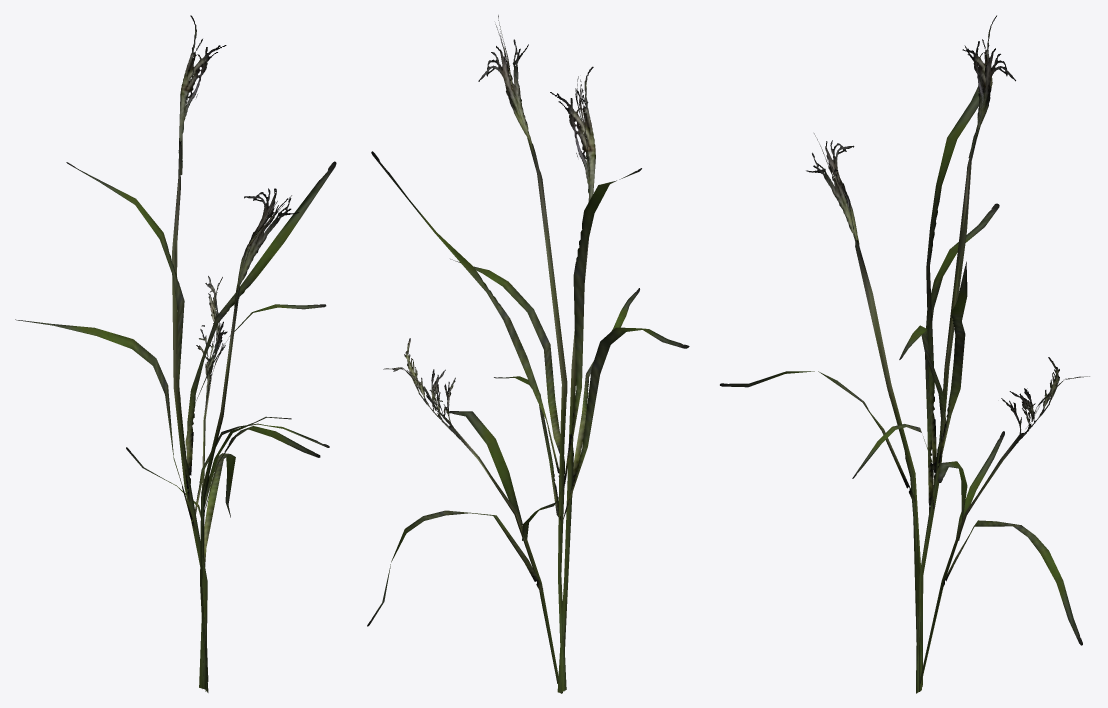
3 renders of one model, left to right at view 1: azimuth 30°, elevation 25°; view 2: azimuth 150°, elevation 25°; view 3: azimuth 270°, elevation 25°, orthographic. The views are drawn at different scales.
Parts seen in each view (by area): view 1: grass_medium_01_tall_a_LOD0; view 2: grass_medium_01_tall_a_LOD0; view 3: grass_medium_01_tall_a_LOD0.
Part boxes in pixels (x1,y1,x2,y2): grass_medium_01_tall_a_LOD0: [15, 15, 336, 692]; grass_medium_01_tall_a_LOD0: [367, 15, 689, 693]; grass_medium_01_tall_a_LOD0: [720, 15, 1089, 693].
Size of the model in its own units: 0.4989 by 1 by 0.4915.
1 material, 1 textured.
